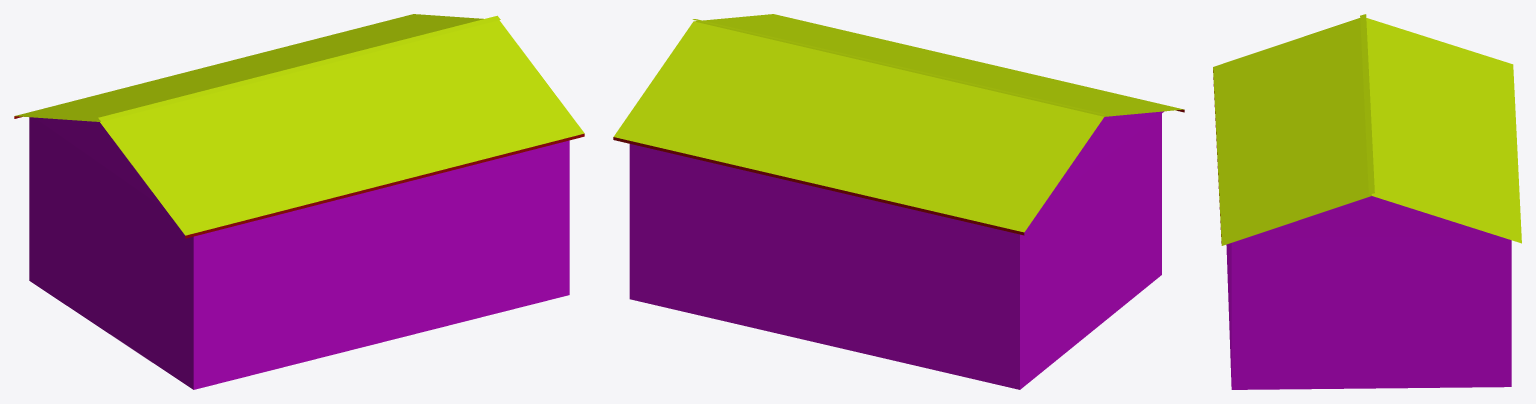
Rendered from suc_2.glb.
3 renders of one model, left to right at view 1: azimuth 30°, elevation 25°; view 2: azimuth 150°, elevation 25°; view 3: azimuth 270°, elevation 25°, orthographic. The views are drawn at different scales.
Visible parts, largest first — view 1: suc_2; view 2: suc_2; view 3: suc_2.
Part boxes in pixels (left/top/right/bottom): suc_2: left=14, top=14, right=584, bottom=389; suc_2: left=613, top=14, right=1184, bottom=389; suc_2: left=1213, top=14, right=1521, bottom=389.
Bounding box in the file's own units: 17.08 × 8.75 × 12.27.
